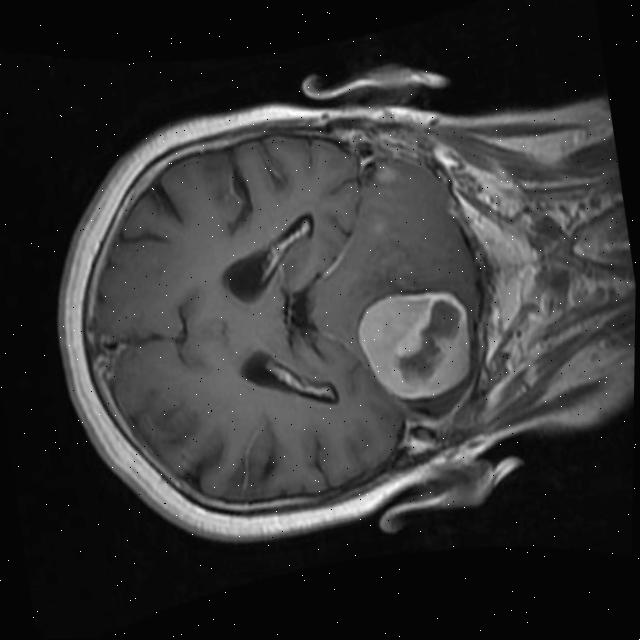Meningioma: (350, 282, 480, 408)
